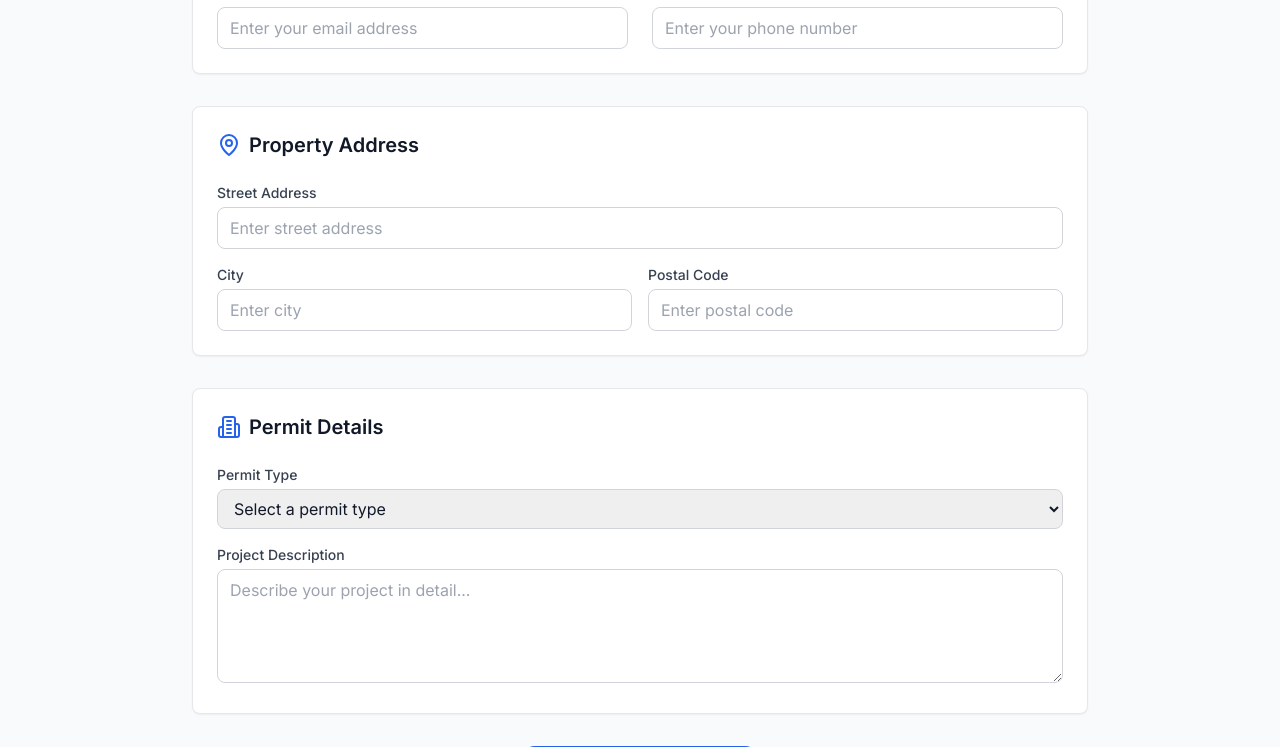
Test: PermitSubmissionPage › Form Validation › should validate description length
The width and height of the screenshot is (1280, 747).
(page scrolled)
Type "Short" into the text box with placeholder "Describe your project in detail...". click: [640, 626]
box: [217, 569, 1063, 683]
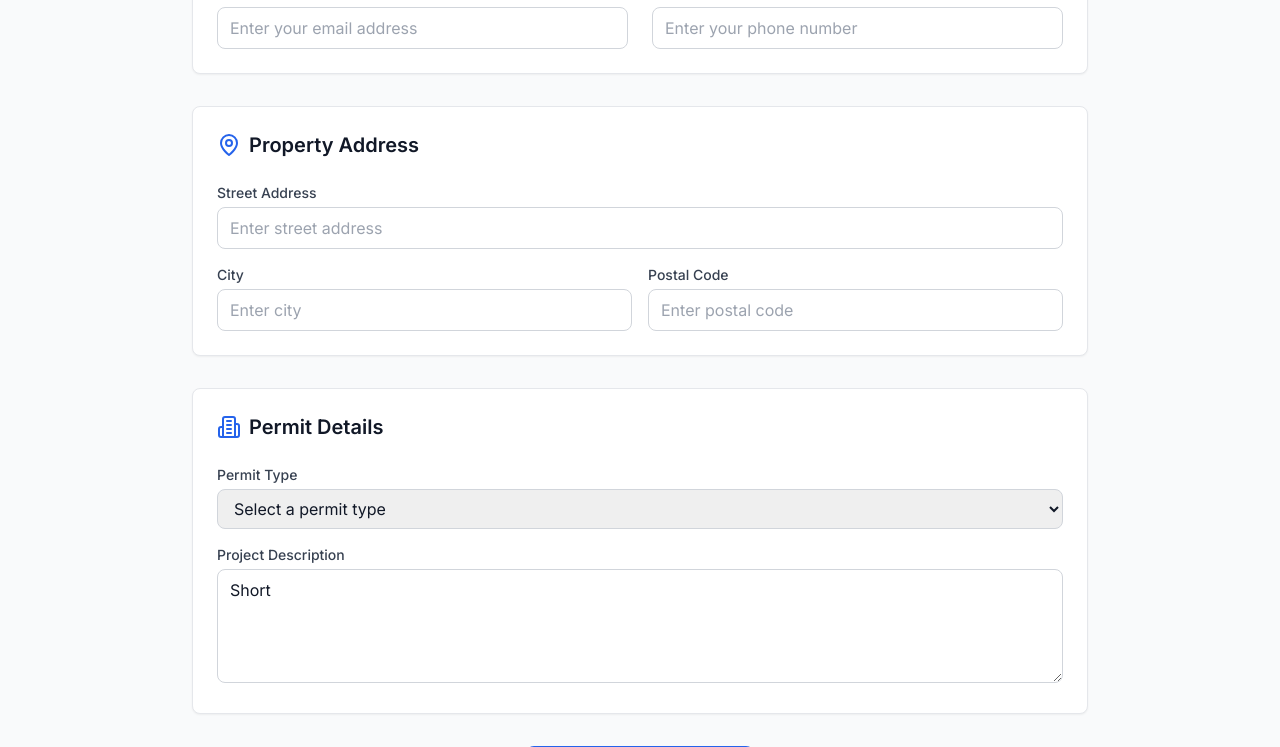
Leave the text box with placeholder "Describe your project in detail...", box [217, 569, 1063, 683]
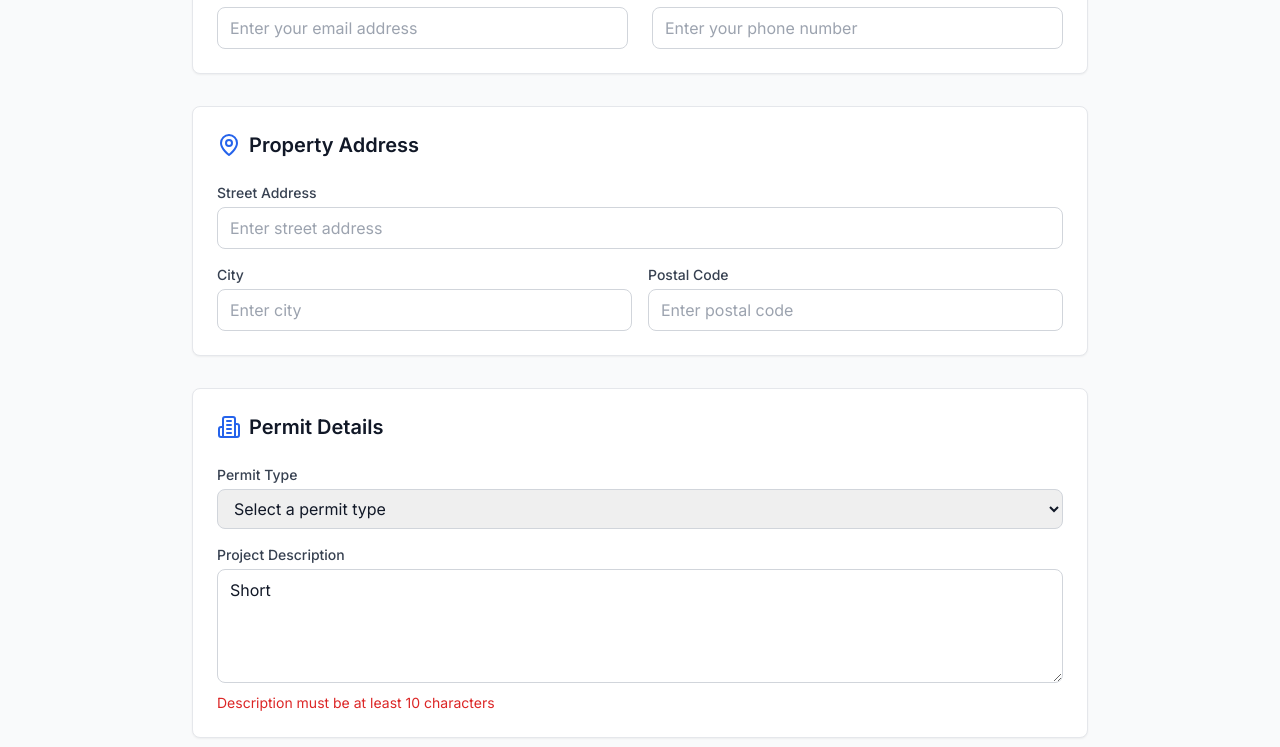
Now the text "Description must be at least 10 characters" is shown, box [217, 694, 495, 711]
Replace the text in the text box with placeholder "Describe your project in detail..." with "This is a longer description that meets the minimum length requirement.". click: [640, 626]
box: [217, 569, 1063, 683]
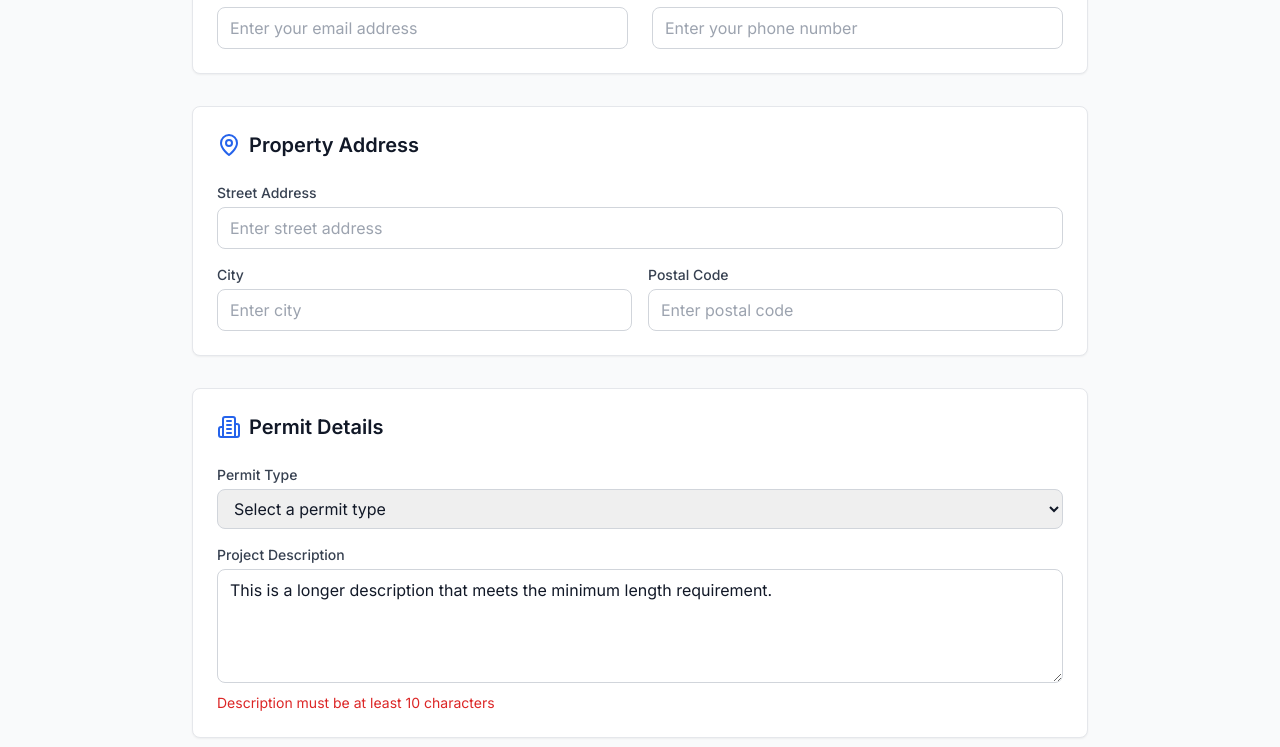
Leave the text box with placeholder "Describe your project in detail...", box [217, 569, 1063, 683]
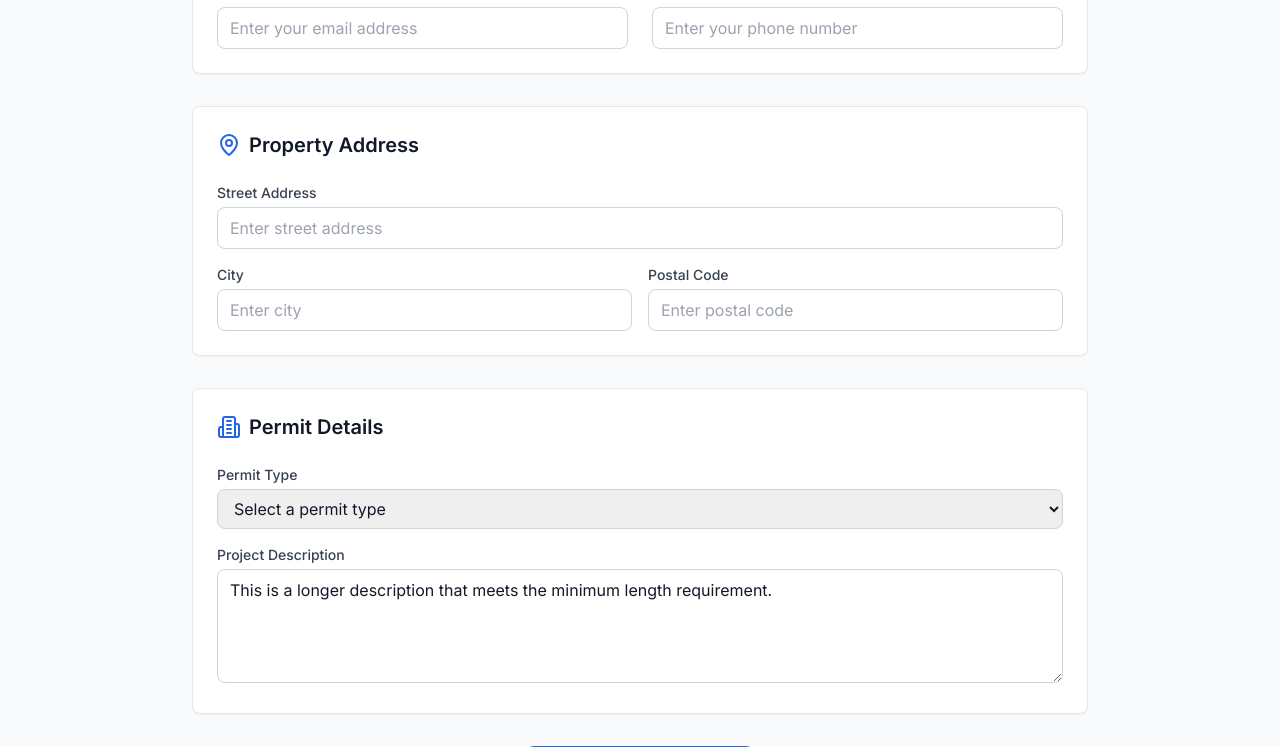
Now the text "Description must be at least 10 characters" is gone
